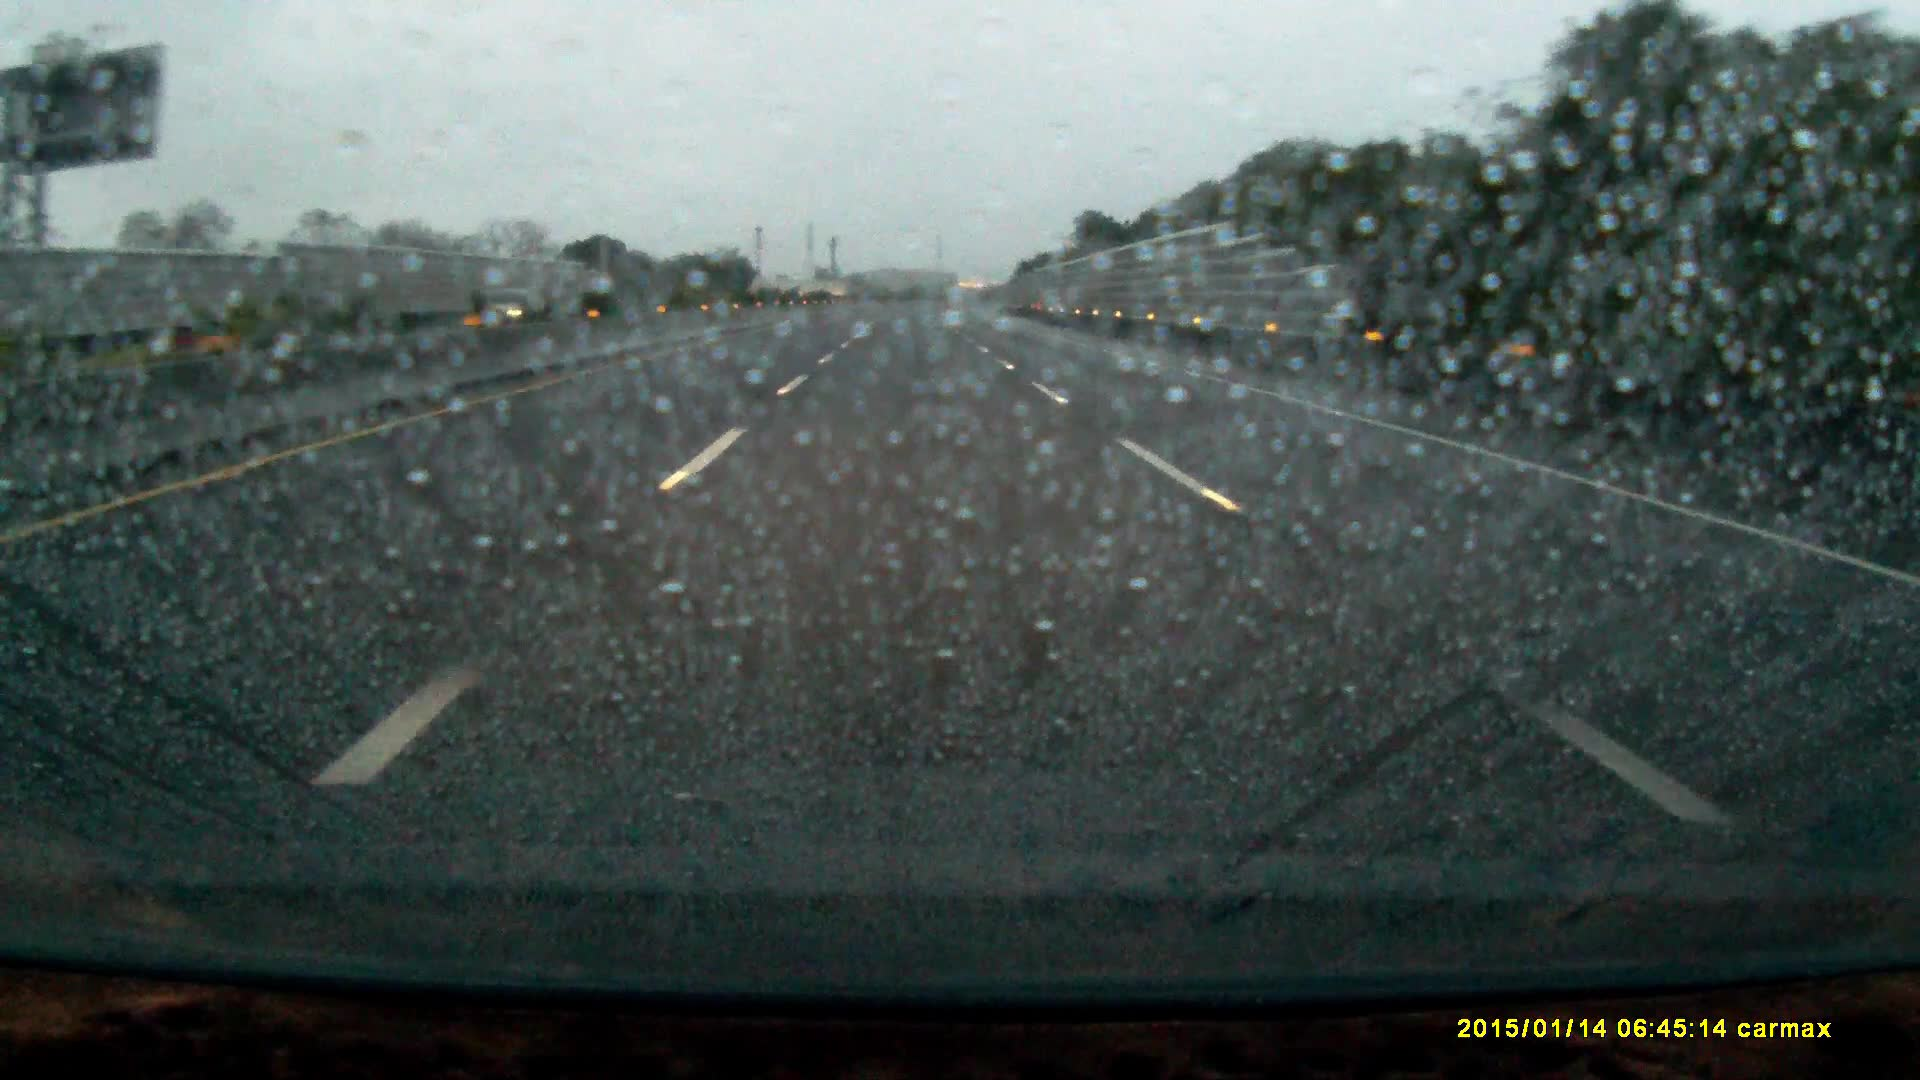vehicle: (473, 285, 535, 319)
